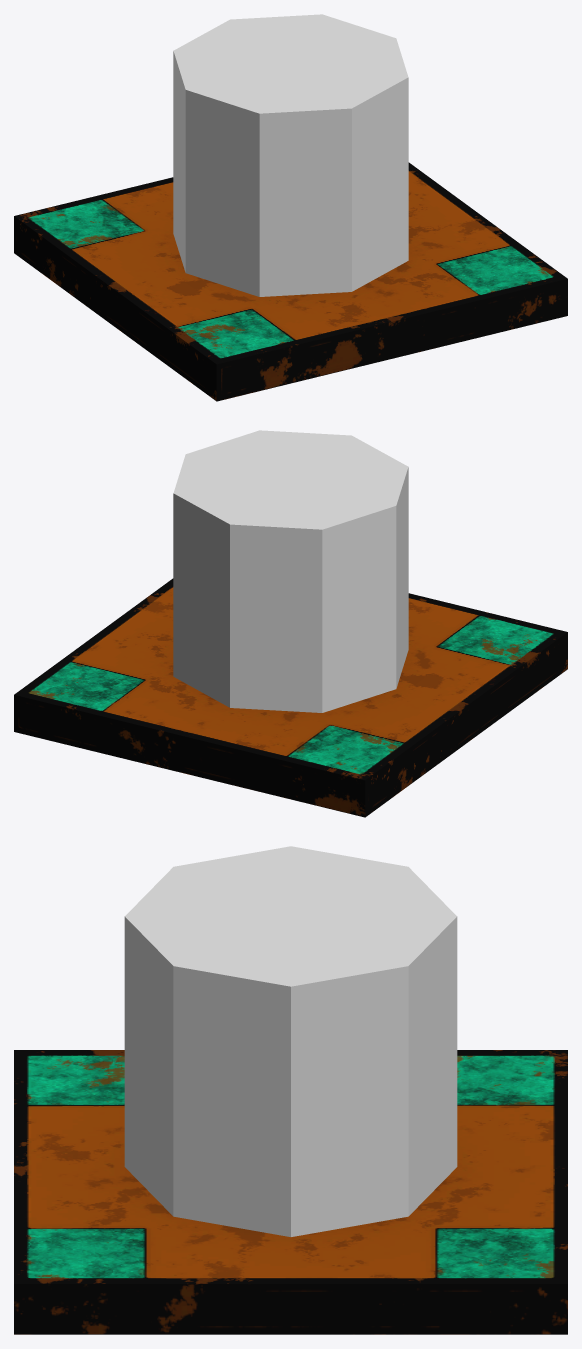
File: Wall.glb
The picture shows the model from 3 angles, top to bottom: view 1: azimuth 30°, elevation 25°; view 2: azimuth 150°, elevation 25°; view 3: azimuth 270°, elevation 25°; orthographic projection. The views are drawn at different scales.
Parts seen in each view (by area): view 1: WallCIndicator, Wall; view 2: WallCIndicator, Wall; view 3: WallCIndicator, Wall.
Part boxes in pixels (x1=…): WallCIndicator: x1=173, y1=14, x2=408, y2=296; Wall: x1=14, y1=162, x2=567, y2=401; WallCIndicator: x1=173, y1=430, x2=408, y2=712; Wall: x1=14, y1=578, x2=567, y2=817; WallCIndicator: x1=124, y1=846, x2=457, y2=1236; Wall: x1=14, y1=1050, x2=567, y2=1334.
Bounding box in the file's own units: 1 × 0.6 × 1.
2 materials, 1 textured.
